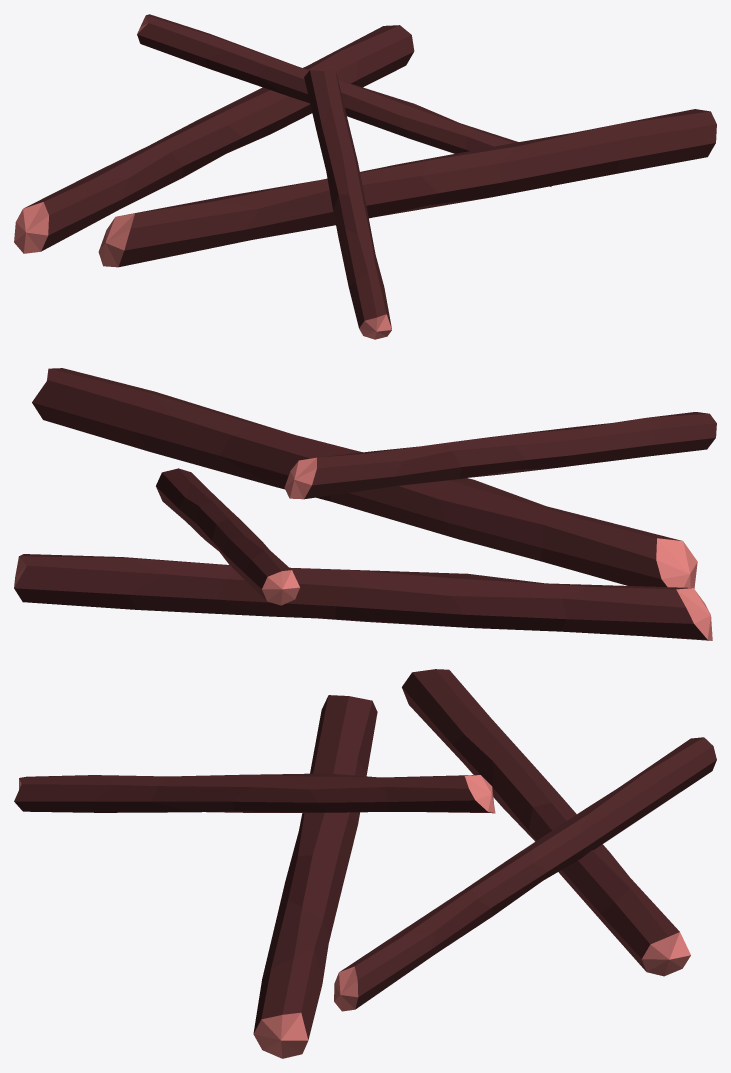
The model's file is stick_pile.glb.
The picture shows the model from 3 angles, top to bottom: view 1: azimuth 30°, elevation 25°; view 2: azimuth 150°, elevation 25°; view 3: azimuth 270°, elevation 25°; orthographic projection. The views are drawn at different scales.
Visible parts, largest first — view 1: Cylinder.001, Cylinder.002, Cylinder.003, Cylinder; view 2: Cylinder.001, Cylinder.002, Cylinder, Cylinder.003; view 3: Cylinder.001, Cylinder.002, Cylinder, Cylinder.003.
Part boxes in pixels (x1,y1,x2,y2): Cylinder.001: (98, 109, 716, 267); Cylinder.002: (14, 25, 414, 253); Cylinder.003: (137, 14, 551, 186); Cylinder: (304, 70, 391, 339); Cylinder.001: (32, 368, 697, 588); Cylinder.002: (14, 554, 712, 640); Cylinder: (284, 412, 716, 499); Cylinder.003: (156, 468, 299, 605); Cylinder.001: (253, 695, 377, 1058); Cylinder.002: (402, 669, 690, 976); Cylinder: (14, 773, 495, 813); Cylinder.003: (334, 737, 716, 1011).
Size of the model in its own units: 1.1 by 0.1981 by 0.9169.
